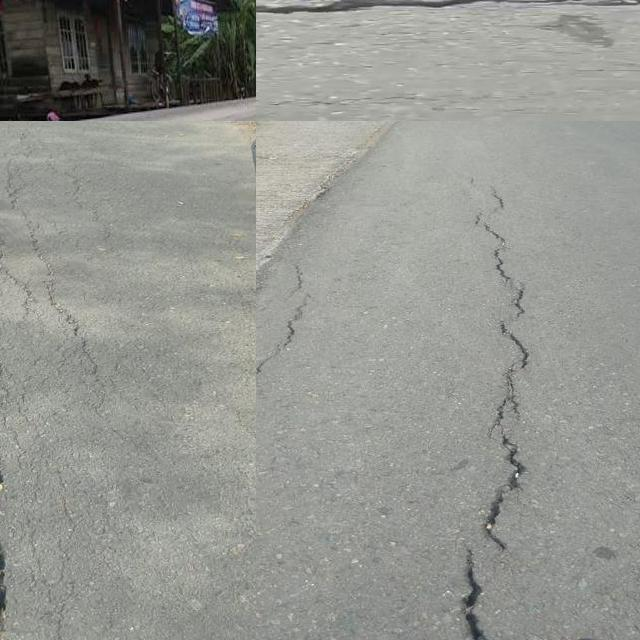Melintang: (256, 0, 640, 27)
Memanjang: (445, 179, 541, 640), (0, 351, 27, 640)
